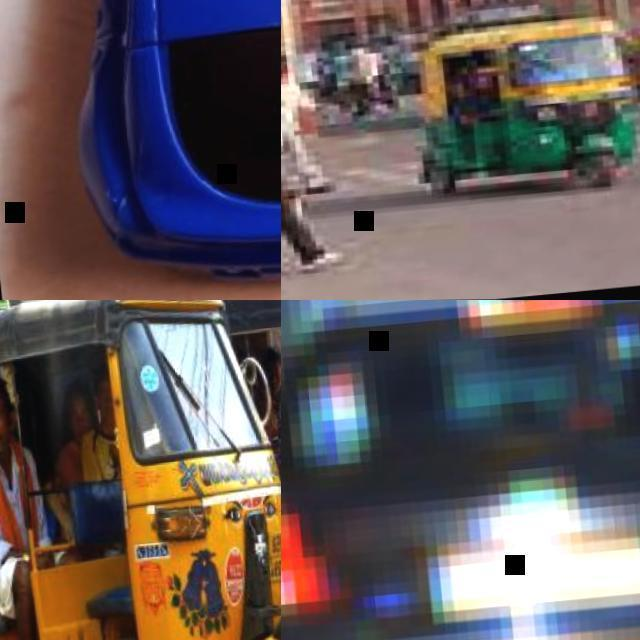car: (1, 297, 286, 639)
